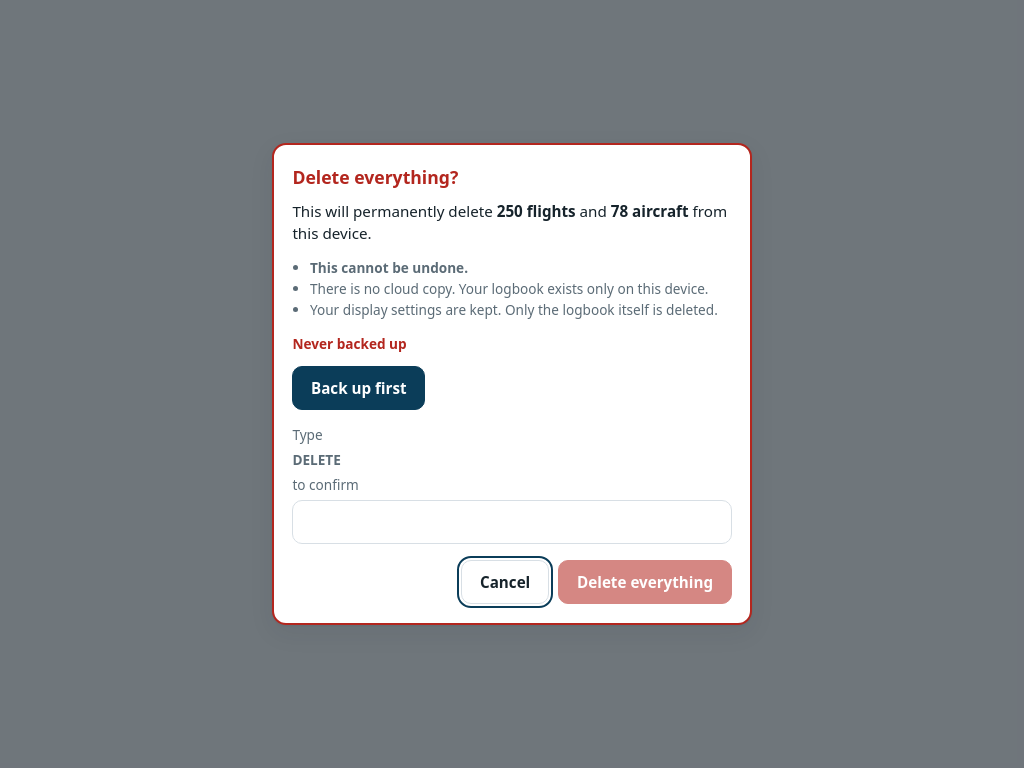
it: the typed gate › accepts the word in any case, after trimming
Type "  delete  " into the field labelled "Type DELETE to confirm" at (512, 522), box top-left (292, 500), bottom-right (732, 544)
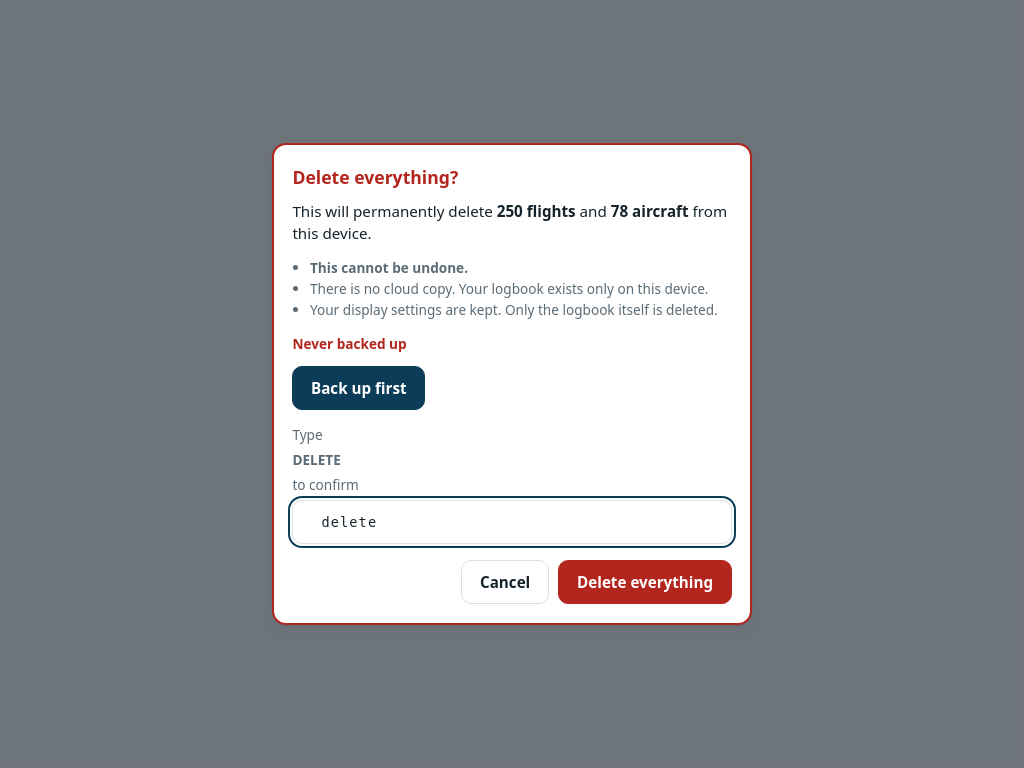
Result: the button "Delete everything" is enabled at top-left (558, 560), bottom-right (732, 604)
